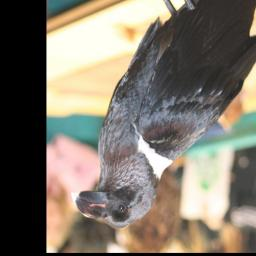Crow: (71, 0, 256, 231)
